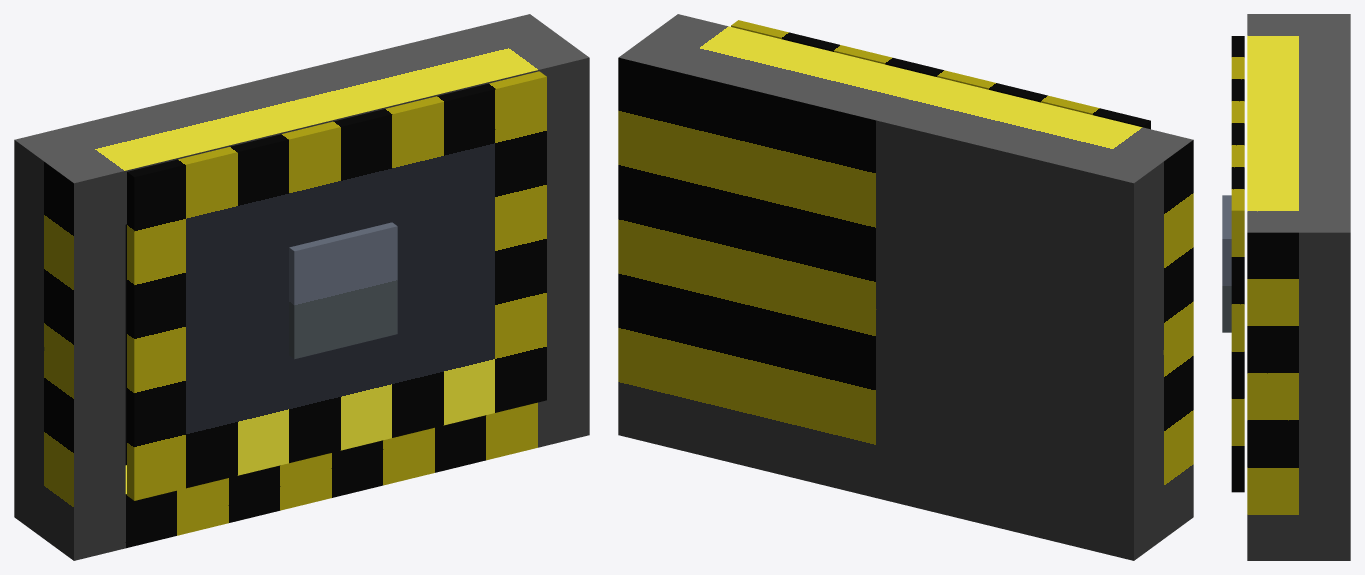
Rendered from door_button_warning_nopower.glb.
The picture shows the model from 3 angles, left to right: view 1: azimuth 30°, elevation 25°; view 2: azimuth 150°, elevation 25°; view 3: azimuth 270°, elevation 25°; orthographic projection. The views are drawn at different scales.
Visible parts, largest first — view 1: Service_Cover, Continuous_Housing, Push_Button; view 2: Continuous_Housing, Service_Cover; view 3: Continuous_Housing, Service_Cover, Push_Button.
Boxes of the visible parts, box(x1,y1,x2,y2) form: Service_Cover: box(127, 71, 546, 500); Continuous_Housing: box(14, 14, 589, 560); Push_Button: box(289, 222, 397, 359); Continuous_Housing: box(618, 14, 1193, 560); Service_Cover: box(731, 20, 1150, 129); Continuous_Housing: box(1247, 14, 1350, 560); Service_Cover: box(1231, 36, 1244, 492); Push_Button: box(1222, 195, 1231, 332).
Size of the model in its own units: 0.2812 by 0.1969 by 0.0698.
1 material, 1 textured.
